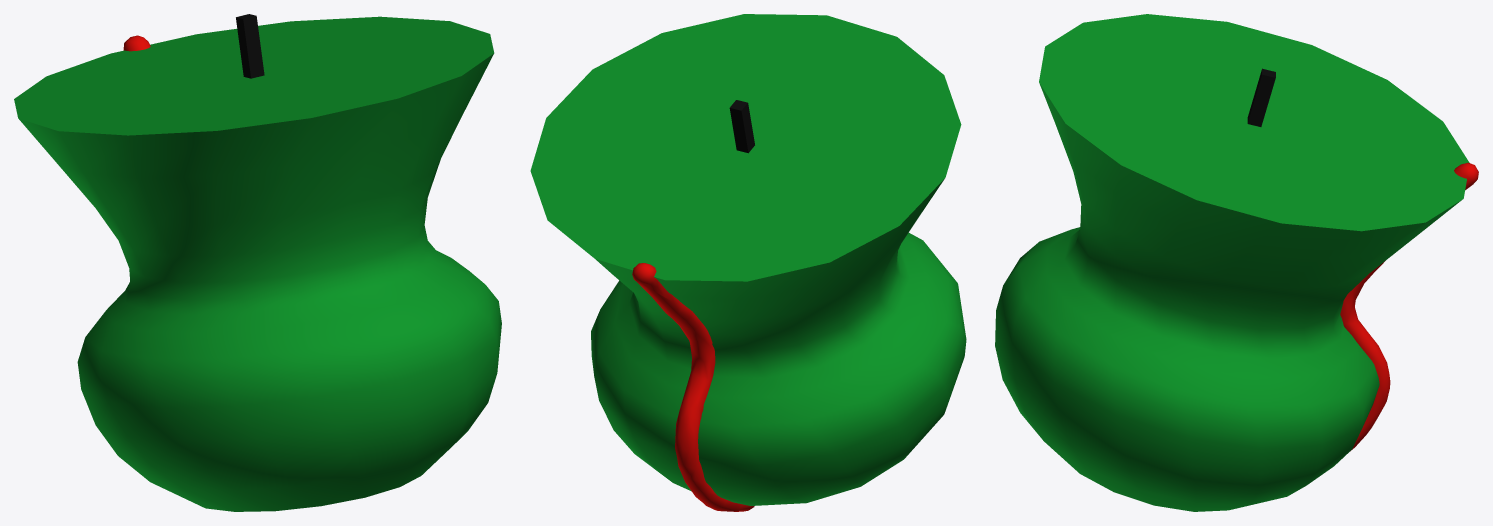
The model's file is revolve.dae.
3 views of the same model, side by side, from view 1: azimuth 30°, elevation 25°; view 2: azimuth 150°, elevation 25°; view 3: azimuth 270°, elevation 25° (orthographic). The views are drawn at different scales.
Visible parts, largest first — view 1: Model; view 2: Model; view 3: Model.
Boxes of the visible parts, box(x1,y1,x2,y2) form: Model: box(14, 14, 501, 511); Model: box(530, 14, 966, 511); Model: box(995, 14, 1478, 511).
Size of the model in its own units: 0.9752 by 1.02 by 1.06.
